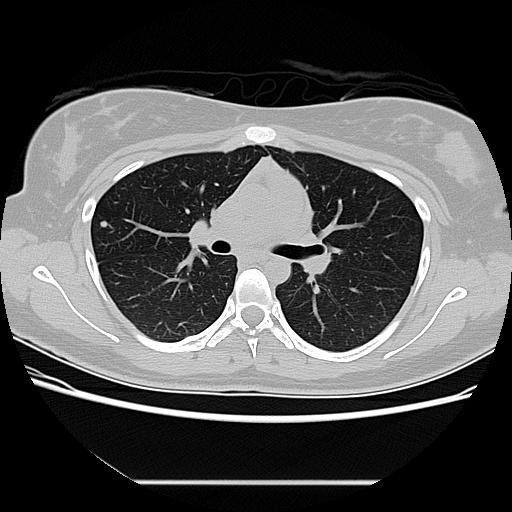nodule: (97, 217, 110, 230)
